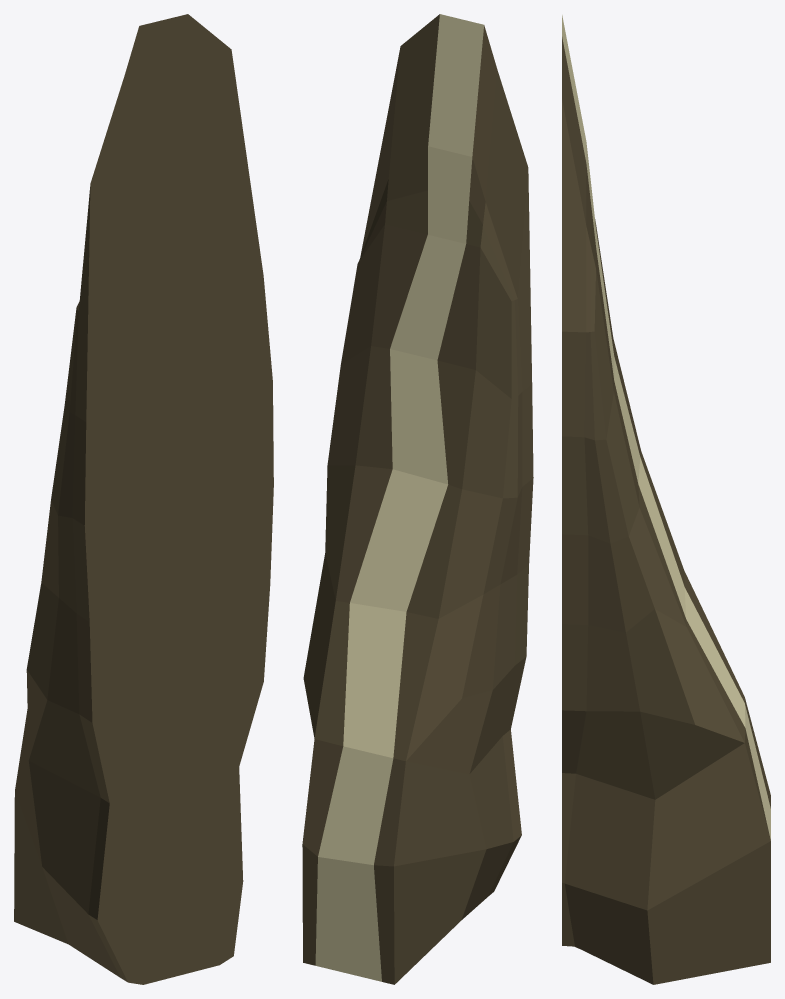
Rendered from Low Poly Ramp.fbx.
The picture shows the model from 3 angles, left to right: view 1: azimuth 30°, elevation 25°; view 2: azimuth 150°, elevation 25°; view 3: azimuth 270°, elevation 25°; orthographic projection. The views are drawn at different scales.
Visible parts, largest first — view 1: Low Poly Ramp; view 2: Low Poly Ramp; view 3: Low Poly Ramp.
Part boxes in pixels (left/top/right/bottom): Low Poly Ramp: left=14, top=14, right=273, bottom=984; Low Poly Ramp: left=302, top=14, right=533, bottom=984; Low Poly Ramp: left=562, top=15, right=770, bottom=984.
Bounding box in the file's own units: 6150 × 29182 × 6007.
